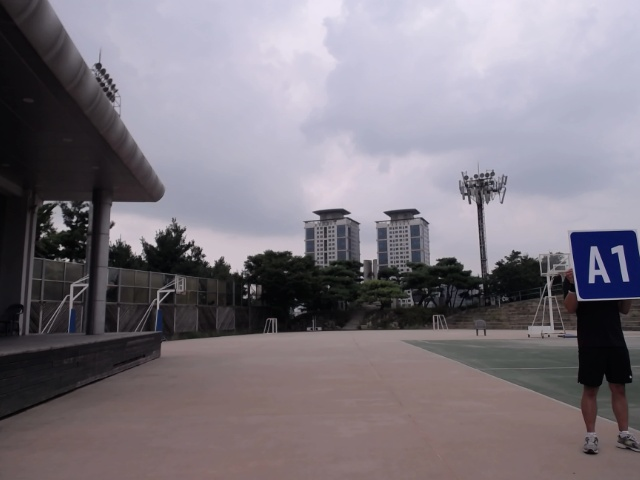delivery_a1: (568, 227, 639, 300)
